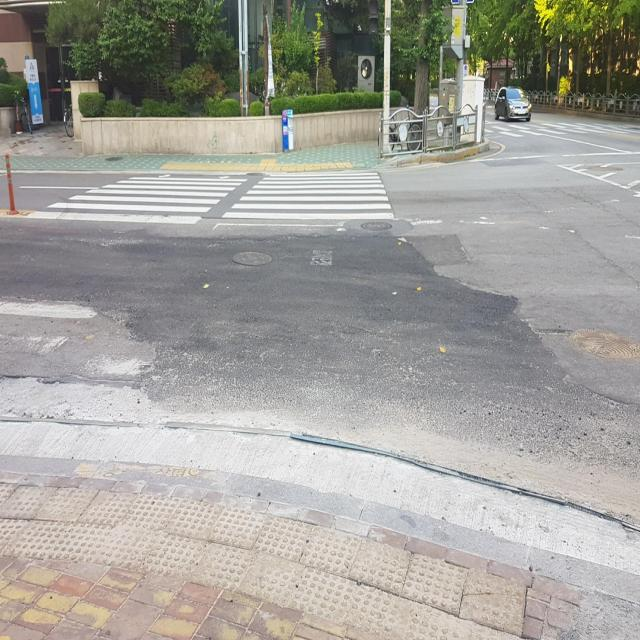횡단보도: (0, 171, 397, 382)
